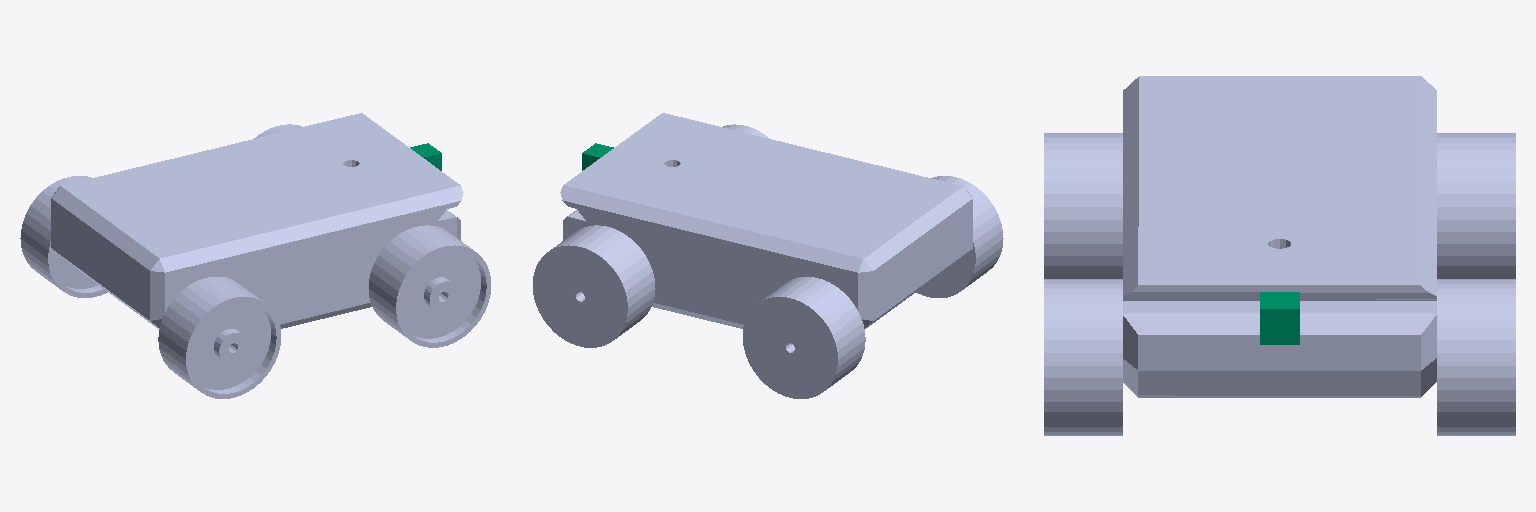
The robot description file, URDF, robot "mobile_manipulator":
<?xml version="1.0"?>

<robot name="mobile_manipulator">
<!--################################# BASE #####################################-->
  <link name="base_link">
    <inertial>
      <origin
        xyz="0.0030946 4.78250032638821E-11 0.053305"
        rpy="0 0 0" />
      <mass
        value="47.873" />
      <inertia
        ixx="0.774276574699151"
        ixy="-1.03781944357671E-10"
        ixz="0.00763014265820928"
        iyy="1.64933255189991"
        iyz="1.09578155845563E-12"
        izz="2.1239326987473" />
    </inertial>
    <visual>
      <origin
        xyz="0 0 0"
        rpy="1.5707963267949 0 3.14" />
      <geometry>
        <mesh filename="package://robot_description/meshes/robot_base.stl" />
      </geometry>
      <material
        name="">
        <color
          rgba="0.79216 0.81961 0.93333 1" />
      </material>
    </visual>
    <collision>
      <origin
        xyz="0 0 0"
        rpy="1.5707963267949 0 3.14" />
      <geometry>
        <mesh filename="package://robot_description/meshes/robot_base.stl" />
      </geometry>
    </collision>
  </link>

<link name="front_left_wheel">
    <inertial>
      <origin
        xyz="-4.1867E-18 0.0068085 -1.65658661799998E-18"
        rpy="0 0 0" />
      <mass
        value="2.6578" />
      <inertia
        ixx="0.00856502765719703"
        ixy="1.5074118157338E-19"
        ixz="-4.78150098725052E-19"
        iyy="0.013670640432096"
        iyz="-2.68136447099727E-19"
        izz="0.00856502765719703" />
    </inertial>
    <visual>
      <origin
        xyz="0 0 0"
        rpy="1.5707963267949 0 0" />
      <geometry>
        <mesh filename="package://robot_description/meshes/wheel.stl" />
      </geometry>
      <material
        name="">
        <color
          rgba="0.79216 0.81961 0.93333 1" />
      </material>
    </visual>
    <collision>
      <origin
        xyz="0 0 0"
        rpy="1.5707963267949 0 0" />
      <geometry>
        <mesh filename="package://robot_description/meshes/wheel.stl" />
      </geometry>
    </collision>
  </link>

<link name="front_right_wheel">
    <inertial>
      <origin
        xyz="-4.1867E-18 0.0068085 -1.65658661799998E-18"
        rpy="0 0 0" />
      <mass
        value="2.6578" />
      <inertia
        ixx="0.00856502765719703"
        ixy="1.5074118157338E-19"
        ixz="-4.78150098725052E-19"
        iyy="0.013670640432096"
        iyz="-2.68136447099727E-19"
        izz="0.00856502765719703" />
    </inertial>
    <visual>
      <origin
        xyz="0 0 0"
        rpy="1.5707963267949 0 0" />
      <geometry>
        <mesh filename="package://robot_description/meshes/wheel.stl" />
      </geometry>
      <material
        name="">
        <color
          rgba="0.79216 0.81961 0.93333 1" />
      </material>
    </visual>
    <collision>
      <origin
        xyz="0 0 0"
        rpy="1.5707963267949 0 0" />
      <geometry>
        <mesh filename="package://robot_description/meshes/wheel.stl" />
      </geometry>
    </collision>
  </link>

<link name="rear_left_wheel">
    <inertial>
      <origin
        xyz="-4.1867E-18 0.0068085 -1.65658661799998E-18"
        rpy="0 0 0" />
      <mass
        value="2.6578" />
      <inertia
        ixx="0.00856502765719703"
        ixy="1.5074118157338E-19"
        ixz="-4.78150098725052E-19"
        iyy="0.013670640432096"
        iyz="-2.68136447099727E-19"
        izz="0.00856502765719703" />
    </inertial>
    <visual>
      <origin
        xyz="0 0 0"
        rpy="1.5707963267949 0 0" />
      <geometry>
        <mesh filename="package://robot_description/meshes/wheel.stl" />
      </geometry>
      <material
        name="">
        <color
          rgba="0.79216 0.81961 0.93333 1" />
      </material>
    </visual>
    <collision>
      <origin
        xyz="0 0 0"
        rpy="1.5707963267949 0 0" />
      <geometry>
        <mesh filename="package://robot_description/meshes/wheel.stl" />
      </geometry>
    </collision>
  </link>

<link name="rear_right_wheel">
    <inertial>
      <origin
        xyz="-4.1867E-18 0.0068085 -1.65658661799998E-18"
        rpy="0 0 0" />
      <mass
        value="2.6578" />
      <inertia
        ixx="0.00856502765719703"
        ixy="1.5074118157338E-19"
        ixz="-4.78150098725052E-19"
        iyy="0.013670640432096"
        iyz="-2.68136447099727E-19"
        izz="0.00856502765719703" />
    </inertial>
    <visual>
      <origin
        xyz="0 0 0"
        rpy="1.5707963267949 0 0" />
      <geometry>
        <mesh filename="package://robot_description/meshes/wheel.stl" />
      </geometry>
      <material
        name="">
        <color
          rgba="0.79216 0.81961 0.93333 1" />
      </material>
    </visual>
    <collision>
      <origin
        xyz="0 0 0"
        rpy="1.5707963267949 0 0" />
      <geometry>
        <mesh filename="package://robot_description/meshes/wheel.stl" />
      </geometry>
    </collision>
  </link>


<joint name="front_left_wheel_joint" type="continuous">
    <axis xyz="0 1 0"/>
    <parent link ="base_link"/>
    <child link ="front_left_wheel"/>
    <origin rpy ="0 0 0" xyz= "0.220 0.250 0"/>
  </joint>


<joint name="front_right_wheel_joint" type="continuous">
    <axis xyz="0 1 0"/>
    <parent link ="base_link"/>
    <child link ="front_right_wheel"/>
    <origin rpy ="0 0 0" xyz= "0.220 -0.250 0"/>
  </joint>

<joint name="rear_left_wheel_joint" type="continuous">
    <axis xyz="0 1 0"/>
    <parent link ="base_link"/>
    <child link ="rear_left_wheel"/>
    <origin rpy ="0 0 0" xyz= "-0.220 0.250 0"/>
  </joint>

<joint name="rear_right_wheel_joint" type="continuous">
    <axis xyz="0 1 0"/>
    <parent link ="base_link"/>
    <child link ="rear_right_wheel"/>
    <origin rpy ="0 0 0" xyz= "-0.220 -0.250 0"/>
</joint>
<!--############################## ARM ########################################-->

 <link name="arm_base">
    <inertial>
      <origin
        xyz="7.7128E-09 -0.063005 -3.01969999961422E-08"
        rpy="0 0 0" />
      <mass
        value="1.6004" />
      <inertia
        ixx="0.00552196561445819"
        ixy="7.9550614501301E-10"
        ixz="-1.34378458924839E-09"
        iyy="0.00352397447953875"
        iyz="-1.10071809773382E-08"
        izz="0.00553739792746489" />
    </inertial>
    <visual>
      <origin
        xyz="0 0 0"
        rpy="0 0 0" />
      <geometry>
        <mesh filename="package://robot_description/meshes/arm_base.stl" />
      </geometry>
      <material
        name="">
        <color
          rgba="0.79216 0.81961 0.93333 1" />
      </material>
    </visual>
    <collision>
      <origin
        xyz="0 0 0"
        rpy="0 0 0" />
      <geometry>
        <mesh filename="package://robot_description/meshes/arm_base.stl" />
      </geometry>
    </collision>
</link>

<link
    name="bicep">
    <inertial>
      <origin
        xyz="0.12821 3.5589E-06 0.052492"
        rpy="0 0 0" />
      <mass
        value="1.1198" />
      <inertia
        ixx="0.0012474"
        ixy="-5.4004E-07"
        ixz="-0.0013148"
        iyy="0.0072923"
        iyz="-1.8586E-07"
        izz="0.0068178" />
    </inertial>
    <visual>
      <origin
        xyz="0 0 0"
        rpy="0 -1.5708 0" />
      <geometry>
        <mesh filename="package://robot_description/meshes/bicep.stl" />
      </geometry>
      <material
        name="">
        <color
          rgba="0.79216 0.81961 0.93333 1" />
      </material>
    </visual>
    <collision>
      <origin
        xyz="0 0 0"
        rpy="0 -1.5708 0" />
      <geometry>
        <mesh filename="package://robot_description/meshes/bicep.stl" />
      </geometry>
    </collision>
  </link>


  <link
    name="bottom_wrist">
    <inertial>
      <origin
        xyz="-9.1053E-08 -0.069257 -1.86629999995759E-07"
        rpy="0 0 0" />
      <mass
        value="0.27721" />
      <inertia
        ixx="0.00104290750143942"
        ixy="4.37155302268076E-09"
        ixz="-2.45049603914627E-09"
        iyy="0.000380518373895034"
        iyz="-7.56009835172156E-09"
        izz="0.00106006525067445" />
    </inertial>
    <visual>
      <origin
        xyz="0 0 0.13522"
        rpy="3.14 0 1.5708" />
      <geometry>
        <mesh filename="package://robot_description/meshes/wrist.stl" />
      </geometry>
      <material
        name="">
        <color
          rgba="0.79216 0.81961 0.93333 1" />
      </material>
    </visual>
    <collision>
      <origin
        xyz="0 0 0.13522"
        rpy="3.14 0 1.5708" />
      <geometry>
        <mesh filename="package://robot_description/meshes/wrist.stl" />
      </geometry>
    </collision>
  </link>

 <link
    name="elbow">
    <inertial>
      <origin
        xyz="-0.11109 1.1476E-08 0.046469"
        rpy="0 0 0" />
      <mass
        value="0.84845" />
      <inertia
        ixx="0.00079656"
        ixy="-7.8011E-10"
        ixz="0.00053616"
        iyy="0.003576"
        iyz="4.6326E-10"
        izz="0.0033698" />
    </inertial>
    <visual>
      <origin
        xyz="0.0 0.05163 0.20994"
        rpy="0 -1.5708 0" />
      <geometry>
        <mesh filename="package://robot_description/meshes/elbow.stl" />
      </geometry>
      <material
        name="">
        <color
          rgba="0.79216 0.81961 0.93333 1" />
      </material>
    </visual>
    <collision>
      <origin
        xyz="0.0 0.05163 0.20994"
        rpy="0 -1.5708 0" />
      <geometry>
        <mesh filename="package://robot_description/meshes/elbow.stl" />
      </geometry>
    </collision>
  </link>

<link
    name="top_wrist">
    <inertial>
      <origin
        xyz="-9.1053E-08 -0.069257 -1.86629999995759E-07"
        rpy="0 0 0" />
      <mass
        value="0.27721" />
      <inertia
        ixx="0.00104290750143942"
        ixy="4.37155302268076E-09"
        ixz="-2.45049603914627E-09"
        iyy="0.000380518373895034"
        iyz="-7.56009835172156E-09"
        izz="0.00106006525067445" />
    </inertial>
    <visual>
      <origin
        xyz="0 0 0.13522"
        rpy="3.14 0 1.5708" />
      <geometry>
        <mesh filename="package://robot_description/meshes/wrist.stl" />
      </geometry>
      <material
        name="">
        <color
          rgba="0.79216 0.81961 0.93333 1" />
      </material>
    </visual>
    <collision>
      <origin
        xyz="0 0 0.13522"
        rpy="3.14 0 1.5708" />
      <geometry>
        <mesh filename="package://robot_description/meshes/wrist.stl" />
      </geometry>
    </collision>
  </link>
  
  
<link name="laser_link">
  <collision>
   <origin xyz="0 0 0" rpy="0 0 0"/>
   <geometry>
    <box size="0.1 0.1 0.1"/>
   </geometry>
  </collision>
  <visual>
   <origin xyz="0 0 0" rpy="0 0 0"/>
    <geometry>
     <box size="0.05 0.05 0.05"/>
    </geometry>
  </visual>
  <inertial>
    <mass value="1e-5" />
    <origin xyz="0 0 0" rpy="0 0 0"/>
    <inertia ixx="1e-6" ixy="0" ixz="0" iyy="1e-6" iyz="0" izz="1e-6" />
  </inertial>
</link>

<joint name="laser_joint" type="fixed">
<axis xyz="0 1 0" />
<origin xyz="0.350 0 0.115" rpy="0 0 0"/>
<parent link="base_link"/>
<child link="laser_link"/>
</joint>

<gazebo reference="laser_link">
	<sensor type="ray" name="laser">
		<pose>0 0 0 0 0 0</pose>
		<visualize>true</visualize>
		<update_rate>40</update_rate>
		<ray>
			<scan>
				<horizontal>
				<samples>720</samples>
				<resolution>1</resolution>
				<min_angle>-1.570796</min_angle>
				<max_angle>1.570796</max_angle>
				</horizontal>
			</scan>
			<range>
				<min>0.10</min>
				<max>30.0</max>
				<resolution>0.01</resolution>
			</range>
		</ray>
		<plugin name="gazebo_ros_head_hokuyo_controller" filename="libgazebo_ros_laser.so">
		  <topicName>/scan</topicName>
		  <frameName>laser_link</frameName>
		</plugin>
	</sensor>
</gazebo>


<joint name="arm_base_joint" type="continuous">
  <axis xyz="0 0 1"/>
  <parent link="base_link"/>
  <child link="arm_base"/>
  <origin rpy="0 0 0" xyz="0.20 0.0 0.145"/>
</joint>

<joint name="shoulder_joint" type="continuous">
  <axis xyz="0 1 0"/>
  <parent link="arm_base"/>
  <child link="bicep"/>
  <origin rpy="0 0 1.5708" xyz="-0.05166 0.0 0.20271"/>
</joint>

<joint name="bottom_wrist_joint" type="continuous">
  <axis xyz="0 1 0"/>
  <parent link="bicep"/>
  <child link="bottom_wrist"/>
  <origin rpy="0 0 0" xyz="0.0 -0.05194 0.269"/>
</joint>

<joint name="elbow_joint" type="continuous">
  <axis xyz="0 0 1"/>
  <parent link="bottom_wrist"/>
  <child link="elbow"/>
  <origin rpy="0 0 0" xyz="0.0 0 0.13522"/>
</joint>

<joint name="top_wrist_joint" type="continuous">
  <axis xyz="0 1 0"/>
  <parent link="elbow"/>
  <child link="top_wrist"/>
  <origin rpy="0 0 0" xyz="0.0 0 0.20994"/>
</joint>


<!--########################## BASE TRANSMISSIONS ############################################-->
<transmission name="front_left_wheel_trans" type="SimpleTransmission">
  <type>transmission_interface/SimpleTransmission</type>
  <actuator name="front_left_wheel_motor">
   <hardwareInterface>hardware_interface/VelocityJointInterface</hardwareInterface>
   <mechanicalReduction>1</mechanicalReduction>
  </actuator>
  <joint name="front_left_wheel_joint">
   <hardwareInterface>hardware_interface/VelocityJointInterface</hardwareInterface>
  </joint>
</transmission>

<transmission name="front_right_wheel_trans" type="SimpleTransmission">
  <type>transmission_interface/SimpleTransmission</type>
  <actuator name="front_right_wheel_motor">
   <hardwareInterface>hardware_interface/VelocityJointInterface</hardwareInterface>
   <mechanicalReduction>1</mechanicalReduction>
  </actuator>
  <joint name="front_right_wheel_joint">
   <hardwareInterface>hardware_interface/VelocityJointInterface</hardwareInterface>
  </joint>
</transmission>

<transmission name="rear_left_wheel_trans" type="SimpleTransmission">
  <type>transmission_interface/SimpleTransmission</type>
  <actuator name="rear_left_wheel_motor">
   <hardwareInterface>hardware_interface/VelocityJointInterface</hardwareInterface>
   <mechanicalReduction>1</mechanicalReduction>
  </actuator>
  <joint name="rear_left_wheel_joint">
   <hardwareInterface>hardware_interface/VelocityJointInterface</hardwareInterface>
  </joint>
</transmission>

<transmission name="rear_right_wheel_trans" type="SimpleTransmission">
  <type>transmission_interface/SimpleTransmission</type>
  <actuator name="rear_right_wheel_motor">
   <hardwareInterface>hardware_interface/VelocityJointInterface</hardwareInterface>
   <mechanicalReduction>1</mechanicalReduction>
  </actuator>
  <joint name="rear_right_wheel_joint">
   <hardwareInterface>hardware_interface/VelocityJointInterface</hardwareInterface>
  </joint>
</transmission>
<!--################################ ARM TRANSIMISSIONS ######################################-->
<transmission name="arm_base_trans" type="SimpleTransmission">
  <type>transmission_interface/SimpleTransmission</type>
  <actuator name="arm_base_motor">
   <hardwareInterface>hardware_interface/PositionJointInterface</hardwareInterface>
   <mechanicalReduction>1</mechanicalReduction>
  </actuator>
  <joint name="arm_base_joint">
   <hardwareInterface>hardware_interface/PositionJointInterface</hardwareInterface>
  </joint>
</transmission>

<transmission name="shoulder_trans" type="SimpleTransmission">
  <type>transmission_interface/SimpleTransmission</type>
  <actuator name="shoulder_motor">
   <hardwareInterface>hardware_interface/PositionJointInterface</hardwareInterface>
   <mechanicalReduction>1</mechanicalReduction>
  </actuator>
  <joint name="shoulder_joint">
   <hardwareInterface>hardware_interface/PositionJointInterface</hardwareInterface>
  </joint>
</transmission>

<transmission name="bottom_wrist_trans" type="SimpleTransmission">
  <type>transmission_interface/SimpleTransmission</type>
  <actuator name="bottom_wrist_motor">
   <hardwareInterface>hardware_interface/PositionJointInterface</hardwareInterface>
   <mechanicalReduction>1</mechanicalReduction>
  </actuator>
  <joint name="bottom_wrist_joint">
   <hardwareInterface>hardware_interface/PositionJointInterface</hardwareInterface>
  </joint>
</transmission>

<transmission name="elbow_trans" type="SimpleTransmission">
  <type>transmission_interface/SimpleTransmission</type>
  <actuator name="elbow_motor">
   <hardwareInterface>hardware_interface/PositionJointInterface</hardwareInterface>
   <mechanicalReduction>1</mechanicalReduction>
  </actuator>
  <joint name="elbow_joint">
   <hardwareInterface>hardware_interface/PositionJointInterface</hardwareInterface>
  </joint>
</transmission>

<transmission name="top_wrist_trans" type="SimpleTransmission">
  <type>transmission_interface/SimpleTransmission</type>
  <actuator name="top_wrist_motor">
   <hardwareInterface>hardware_interface/PositionJointInterface</hardwareInterface>
   <mechanicalReduction>1</mechanicalReduction>
  </actuator>
  <joint name="top_wrist_joint">
   <hardwareInterface>hardware_interface/PositionJointInterface</hardwareInterface>
  </joint>
</transmission>

<!--######################################################################-->
<gazebo>
    <plugin name="gazebo_ros_control" filename="libgazebo_ros_control.so">
      <robotNamespace>/</robotNamespace>
      <controlPeriod>0.001</controlPeriod>
      <legacyModeNS>false</legacyModeNS>
    </plugin>
  </gazebo>
<!--######################################################################-->
  <gazebo>
    <plugin name="joint_state_publisher" filename="libgazebo_ros_joint_state_publisher.so">
      <jointName>arm_base_joint, shoulder_joint, bottom_wrist_joint, elbow_joint, bottom_wrist_joint</jointName>
    </plugin>
  </gazebo>
<!--######################################################################-->

<!--######################################################################-->
<gazebo>
      <plugin name="diff_drive_controller" filename="libgazebo_ros_diff_drive.so">
        <legacyMode>false</legacyMode>
        <alwaysOn>true</alwaysOn>
        <updateRate>1000.0</updateRate>
        <leftJoint>front_left_wheel_joint, rear_left_wheel_joint</leftJoint>
        <rightJoint>front_right_wheel_joint, rear_right_wheel_joint</rightJoint>
        <wheelSeparation>0.5</wheelSeparation>
        <wheelDiameter>0.2</wheelDiameter>
        <wheelTorque>10</wheelTorque>
        <publishTf>1</publishTf>
        <odometryFrame>map</odometryFrame>
        <commandTopic>cmd_vel</commandTopic>
        <odometryTopic>odom</odometryTopic>
        <robotBaseFrame>base_link</robotBaseFrame>
        <wheelAcceleration>2.8</wheelAcceleration>
        <publishWheelJointState>true</publishWheelJointState>
        <publishWheelTF>false</publishWheelTF>
        <odometrySource>world</odometrySource>
        <rosDebugLevel>Debug</rosDebugLevel>
      </plugin>
</gazebo>
<!--######################################################################-->
<gazebo reference="front_left_wheel">
 <mu1 value="1.0"/>
 <mu2 value="1.0"/>
 <kp value="10000000.0" />
 <kd value="1.0" />
 <fdir1 value="1 0 0"/>
</gazebo>

<gazebo reference="front_right_wheel">
 <mu1 value="1.0"/>
 <mu2 value="1.0"/>
 <kp value="10000000.0" />
 <kd value="1.0" />
 <fdir1 value="1 0 0"/>
</gazebo>

<gazebo reference="rear_left_wheel">
 <mu1 value="1.0"/>
 <mu2 value="1.0"/>
 <kp value="10000000.0" />
 <kd value="1.0" />
 <fdir1 value="1 0 0"/>
</gazebo>

<gazebo reference="rear_left_wheel">
 <mu1 value="1.0"/>
 <mu2 value="1.0"/>
 <kp value="10000000.0" />
 <kd value="1.0" />
 <fdir1 value="1 0 0"/>
</gazebo>
<!--######################################################################-->

</robot>

--- What the picture shows (computed from the rendered views, not written in the file) ---
The picture shows the robot from 3 angles, left to right: view 1: azimuth 30°, elevation 25°; view 2: azimuth 150°, elevation 25°; view 3: azimuth 270°, elevation 25°; orthographic projection.
Robot: mobile_manipulator — 11 links, 10 joints (9 continuous, 1 fixed); root link base_link; default pose: all joints at 0.
Links seen in each view (by area): view 1: base_link, rear_right_wheel, front_right_wheel, rear_left_wheel; view 2: base_link, front_left_wheel, rear_left_wheel, rear_right_wheel; view 3: base_link, front_left_wheel, front_right_wheel, rear_left_wheel, rear_right_wheel, laser_link.
Link boxes in pixels (<box>): base_link: <box>51,113,463,328</box>; rear_right_wheel: <box>158,277,280,398</box>; front_right_wheel: <box>369,225,490,347</box>; rear_left_wheel: <box>20,176,107,297</box>; base_link: <box>560,113,972,328</box>; front_left_wheel: <box>533,225,655,347</box>; rear_left_wheel: <box>743,277,865,398</box>; rear_right_wheel: <box>916,176,1003,297</box>; base_link: <box>1123,76,1436,397</box>; front_left_wheel: <box>1437,279,1515,435</box>; front_right_wheel: <box>1044,279,1122,435</box>; rear_left_wheel: <box>1437,133,1515,278</box>; rear_right_wheel: <box>1044,133,1122,278</box>; laser_link: <box>1260,292,1299,344</box>.
Size in the robot's own frame: 0.7003 by 0.6 by 0.2497 metres.
5 mesh visuals loaded from 6 distinct referenced files (2 ASCII STL); not drawn: 5 (reference not matched to a file when rendering).
